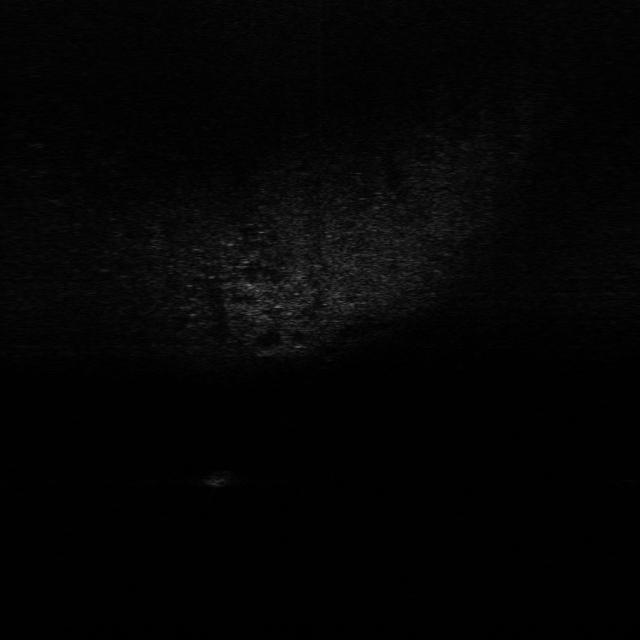cylinder: (207, 468, 236, 489)
